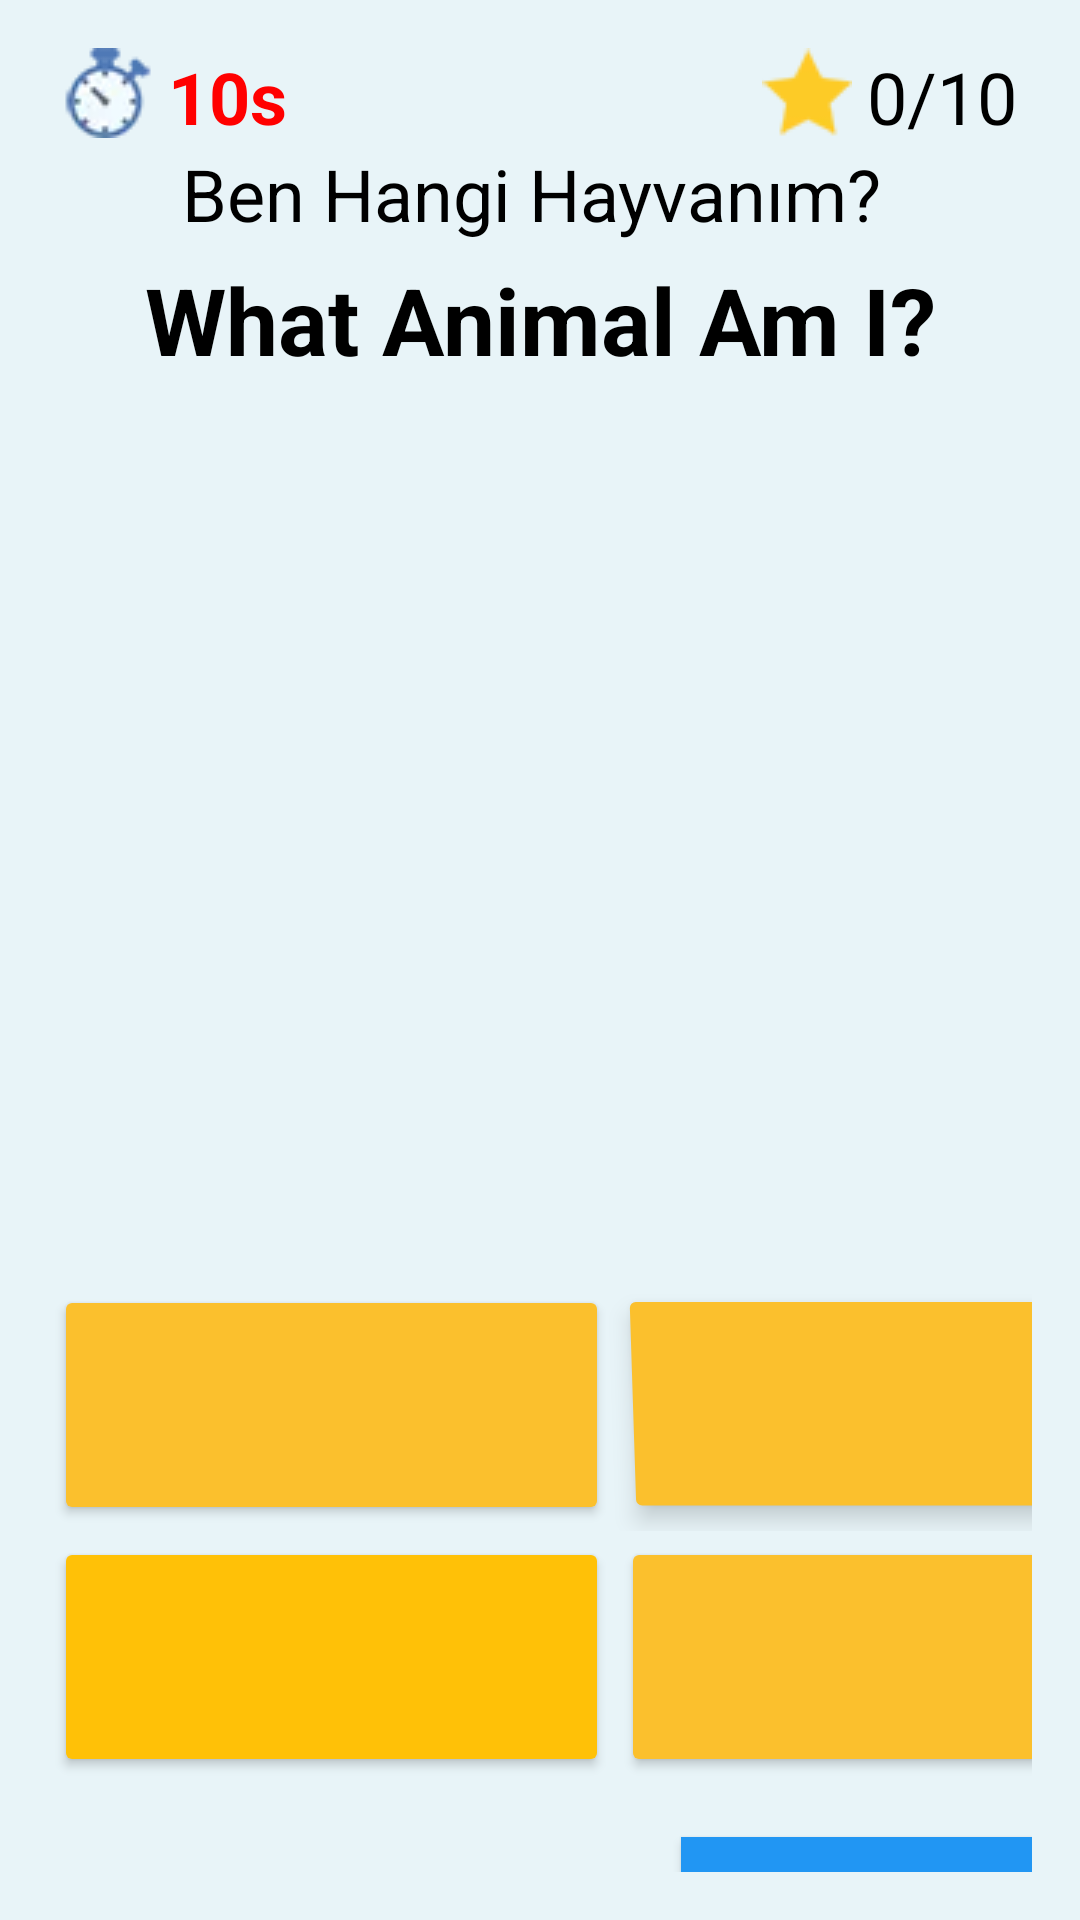

Where icons sit on this 1080*1920 app screen, as (x1, y1, x2, y2):
star: (762, 48, 852, 136)
stopwatch: (65, 48, 151, 138)
